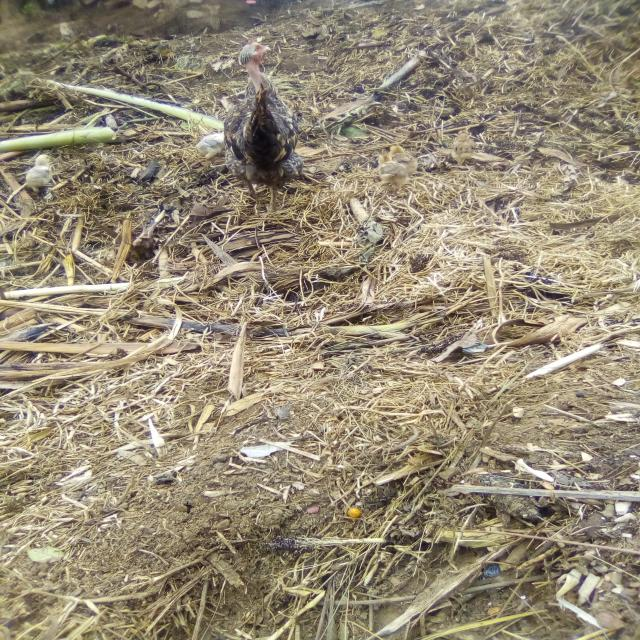turkey: (197, 29, 337, 212)
